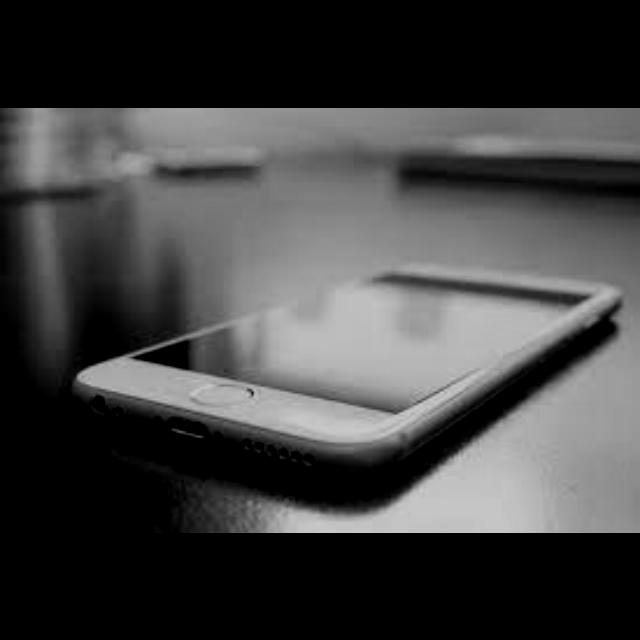fake: (74, 221, 620, 501)
